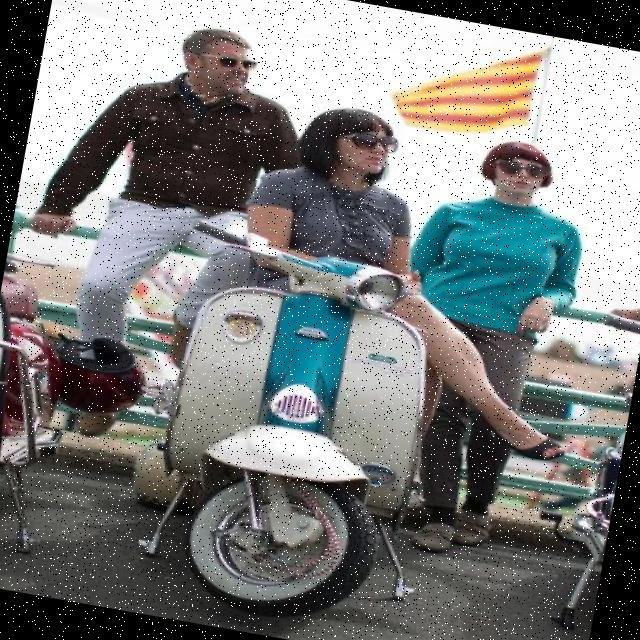No helmet: (299, 108, 414, 210)
